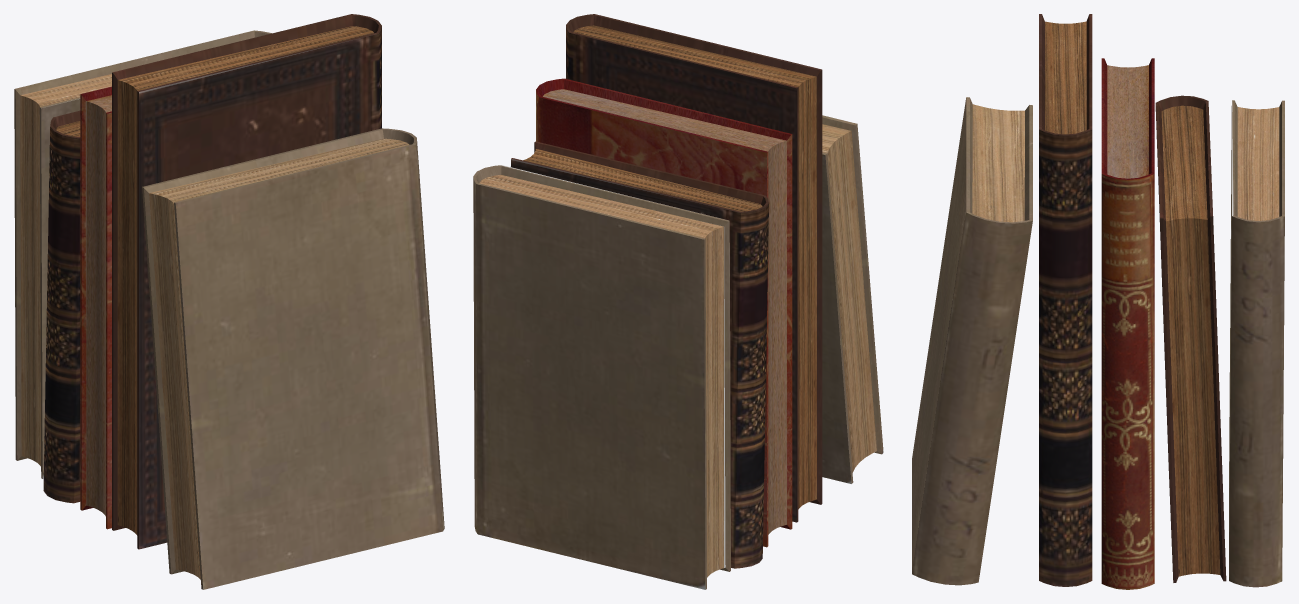
The model's file is pack1_bouquins2.fbx.
3 views of the same model, side by side, from view 1: azimuth 30°, elevation 25°; view 2: azimuth 150°, elevation 25°; view 3: azimuth 270°, elevation 25° (orthographic). The views are drawn at different scales.
Parts seen in each view (by area): view 1: pack1_02; view 2: pack1_02; view 3: pack1_02.
Part boxes in pixels (x1,y1,x2,y2): pack1_02: [14, 14, 444, 589]; pack1_02: [473, 14, 883, 589]; pack1_02: [912, 14, 1284, 589].
Size of the model in its own units: 31.66 by 52.51 by 39.07.
